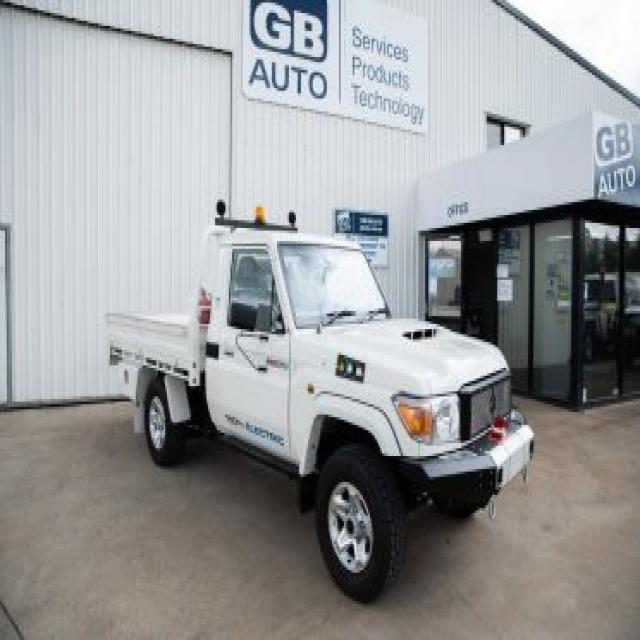light_vehicle: (93, 197, 537, 606)
